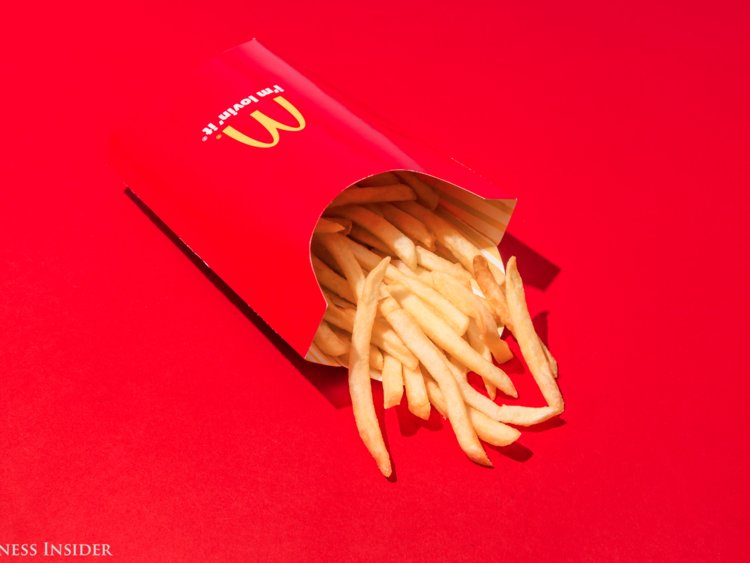mcdonalds: (215, 91, 305, 159)
